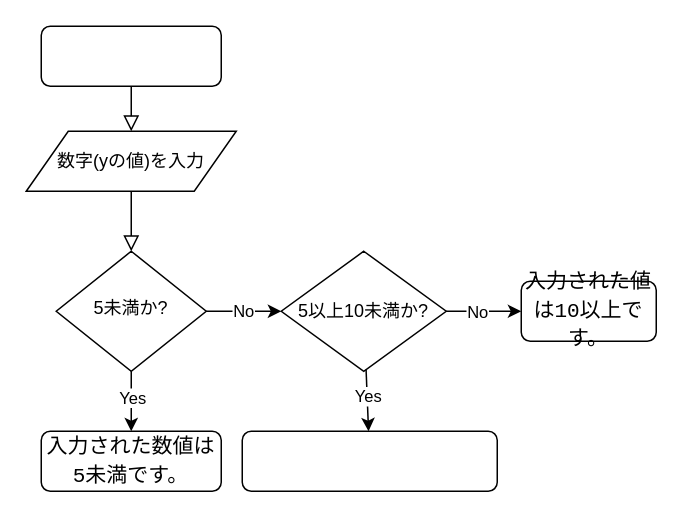
This 683x530 diagram has some shape labels left out. The centre of each missing label's shape, as x and y in pixels:
"Start" goes at point 130,55.
"入力された値は5以上10未満" goes at point 369,460.
